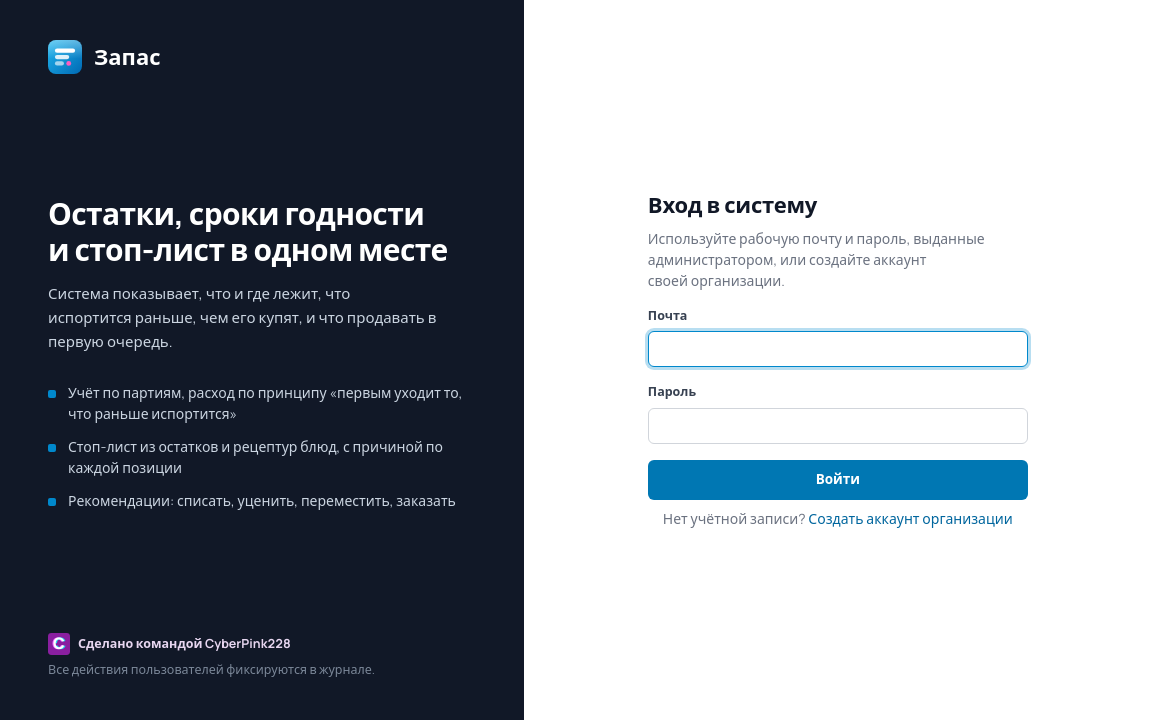
it: второй шаг входа администратора › после пароля просит код, а пароль не остаётся в форме
In the field labelled "Почта": (838, 349) [648, 331, 1028, 367], type "admin@zapas.local"
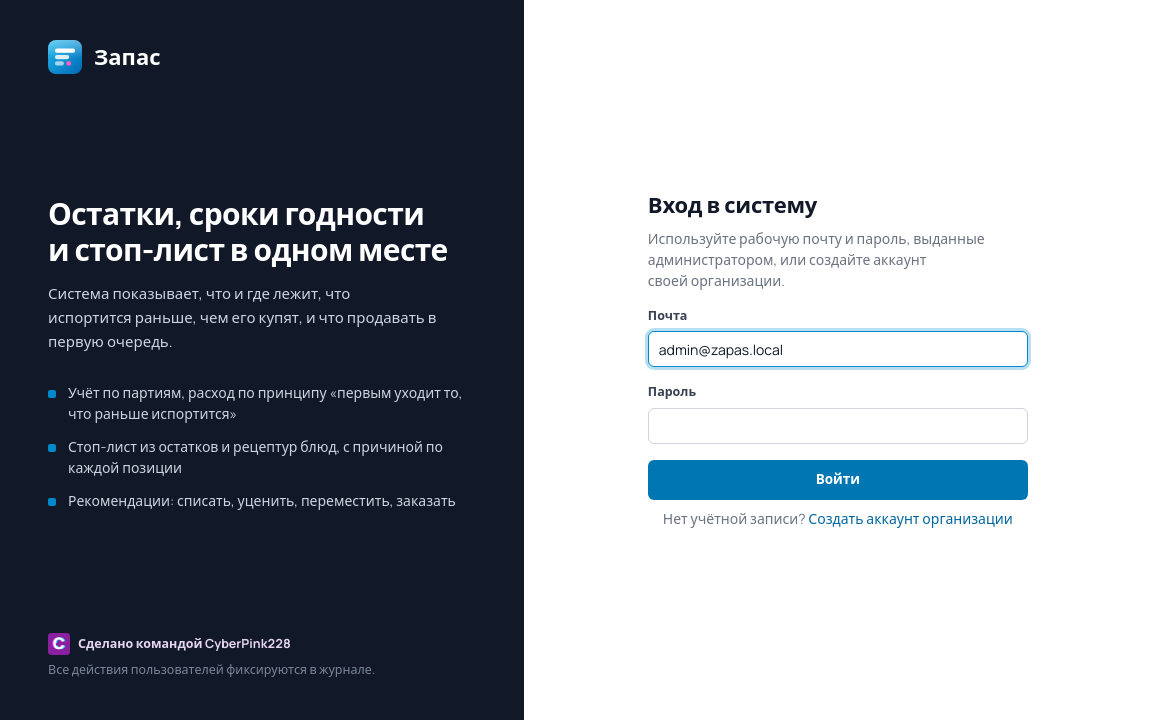
In the password field labelled "Пароль": (838, 426) [648, 408, 1028, 444], type "какой-то-пароль"
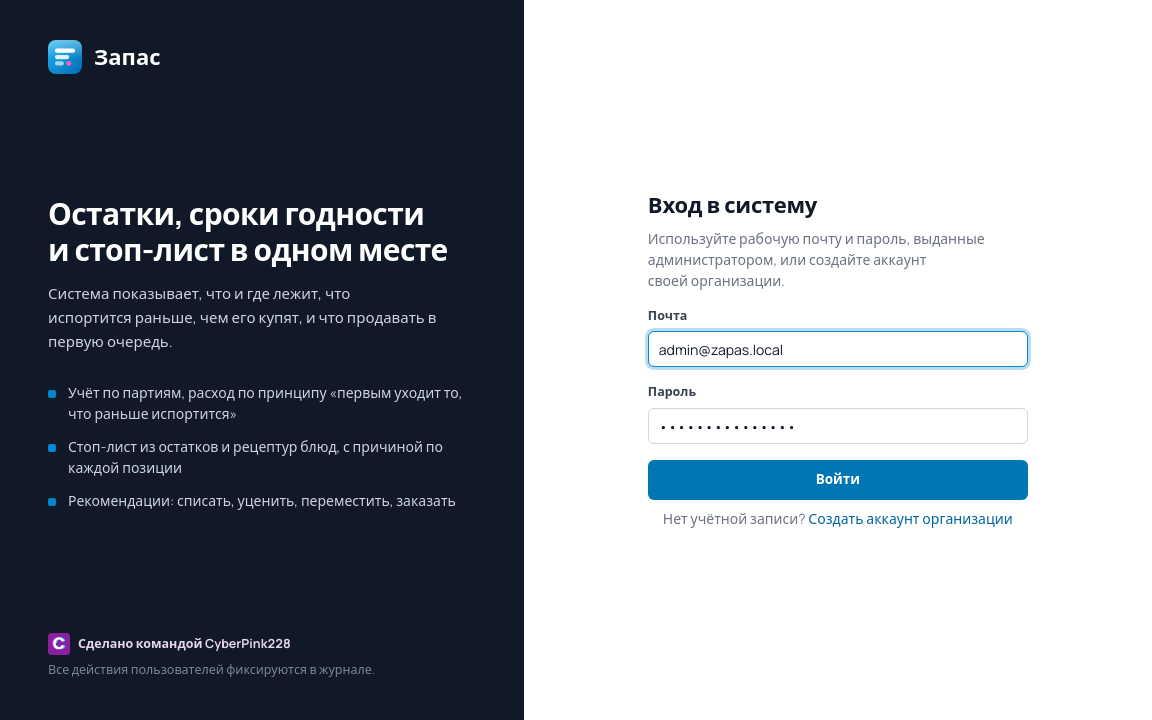
Click the button "Войти": (838, 480) [648, 460, 1028, 500]
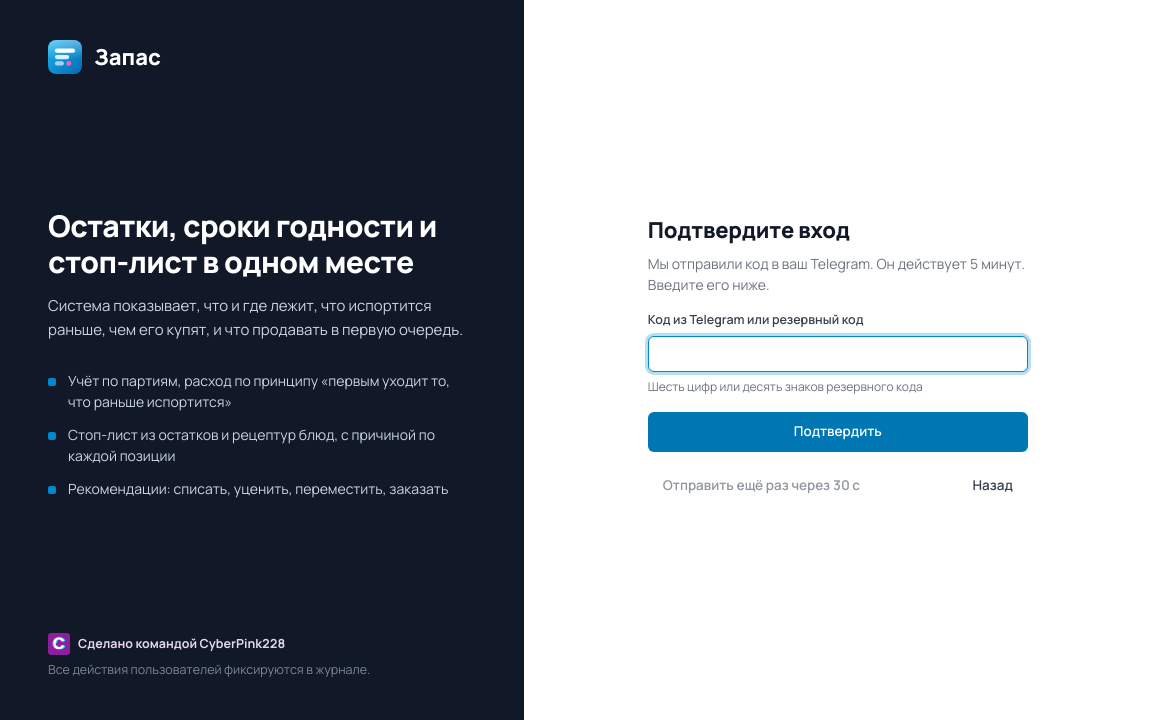
Expected: the heading "Подтвердите вход" is shown, [648, 215, 850, 245]
Expected: the text "отправили код в ваш Telegram" is shown, [648, 254, 1025, 294]
Expected: the text labelled "пароль" is gone
